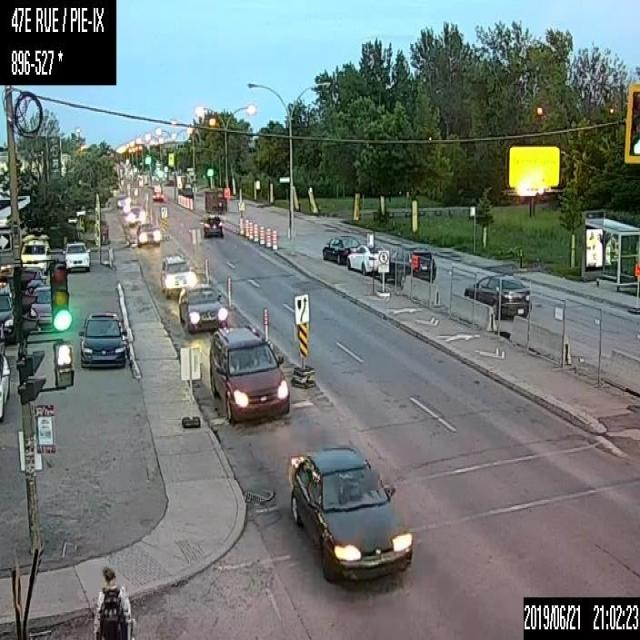construction: (634, 262, 639, 314), (226, 275, 232, 309), (262, 308, 268, 340), (272, 228, 278, 249), (258, 224, 264, 245), (265, 226, 271, 247), (252, 221, 258, 241), (238, 216, 244, 235), (248, 221, 254, 239), (205, 257, 209, 282), (244, 218, 249, 236)
pedestrian: (92, 564, 136, 639)
vehicle: (286, 444, 414, 585), (208, 328, 291, 423), (463, 269, 532, 320), (80, 311, 128, 367), (379, 238, 436, 283), (178, 286, 227, 330), (159, 254, 199, 298), (346, 243, 386, 275), (321, 234, 363, 264), (19, 235, 50, 272), (27, 284, 52, 328), (0, 280, 15, 343), (63, 242, 91, 268), (0, 354, 10, 423), (202, 211, 224, 237), (136, 224, 161, 246), (126, 206, 146, 225), (152, 180, 164, 200), (116, 192, 130, 206)
